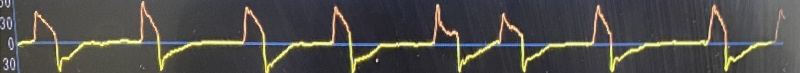normal_flow: (5, 0, 775, 73)
